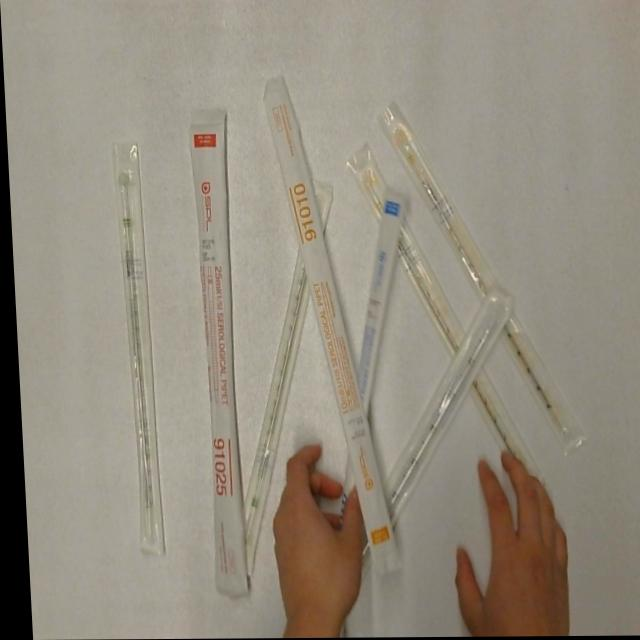Serelogical Pipet 1 mL - Sealed: (380, 98, 585, 455), (341, 143, 542, 495)
Serelogical Pipet 10 mL - Sealed: (258, 71, 400, 582)
Serelogical Pipet 2 mL - Sealed: (217, 183, 347, 577), (111, 136, 158, 558)
Serelogical Pipet 25 mL - Sealed: (183, 103, 249, 598)
Serelogical Pipet 5 mL - Sealed: (340, 191, 416, 421)
